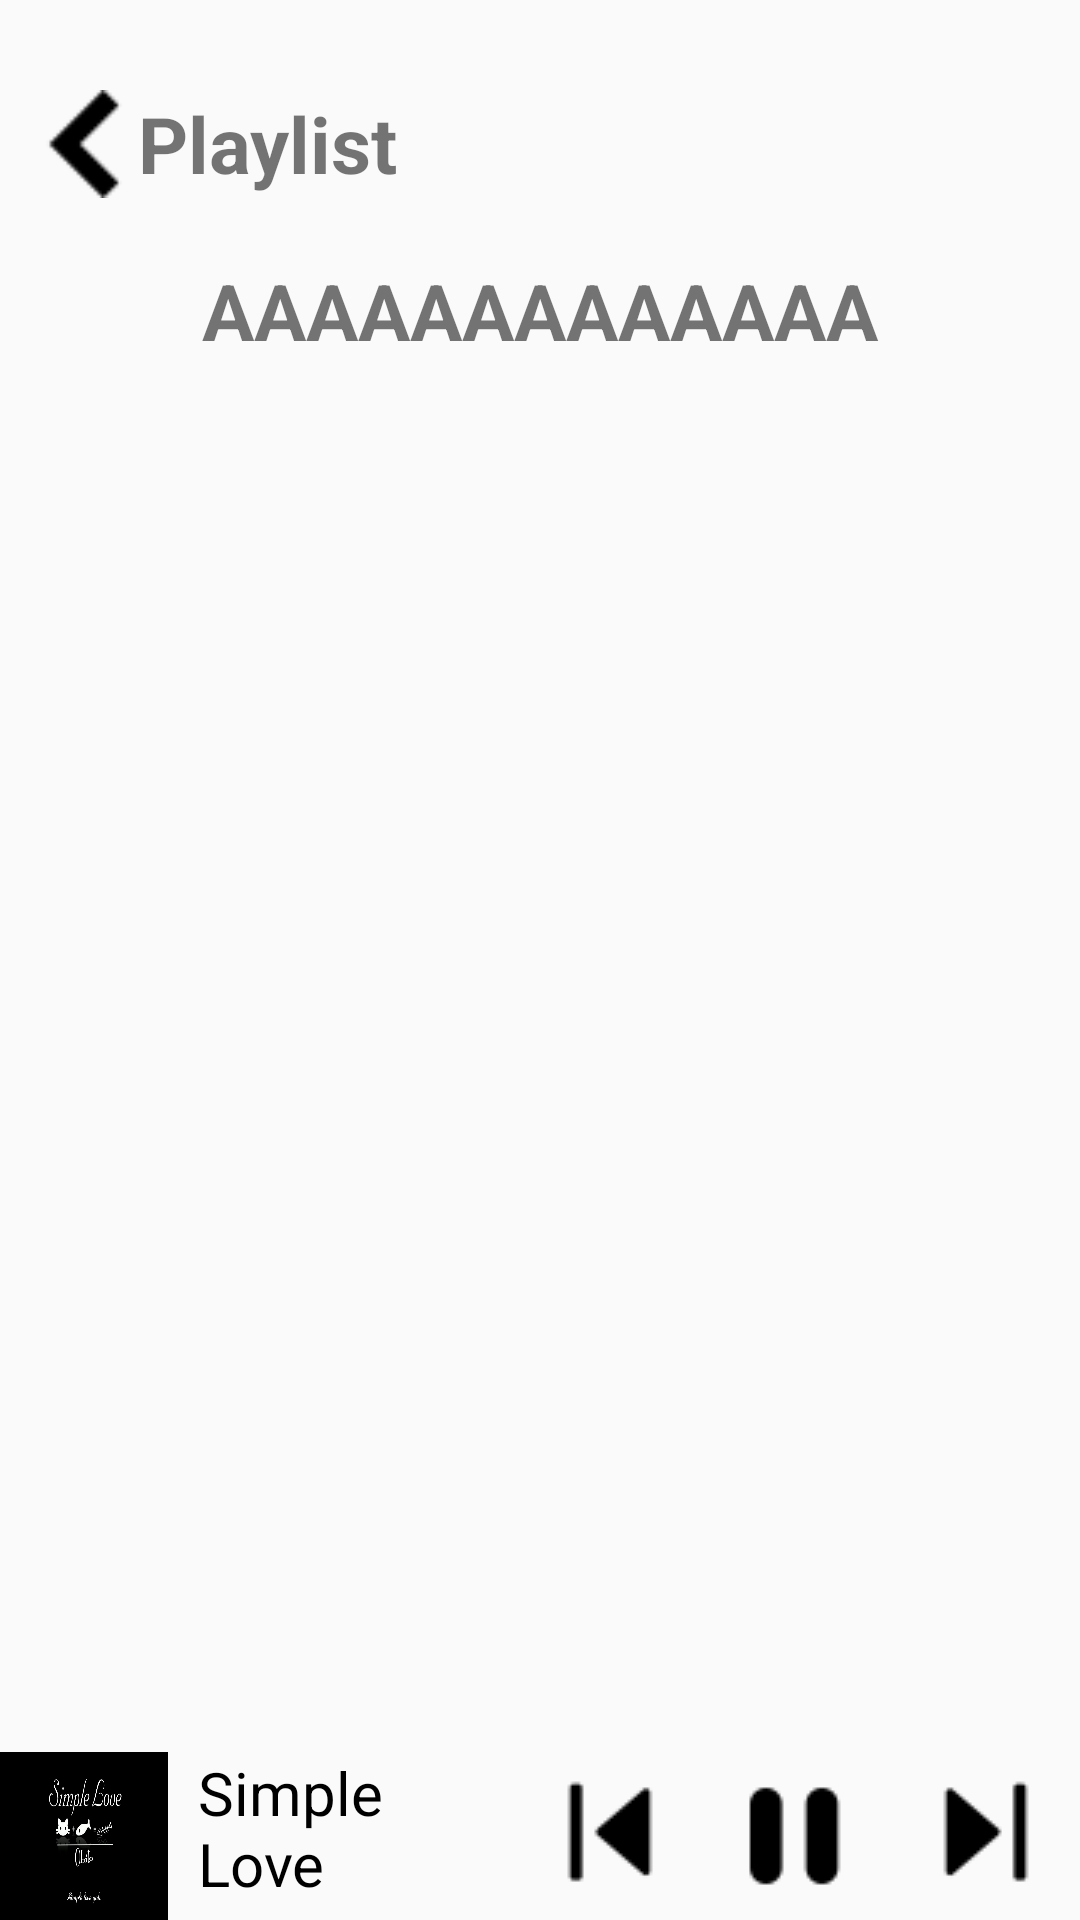

Locate icon controls on the screen. Image size 1080×1920, boxes as box(x1, y1, x2, y2).
back: box(49, 90, 119, 198), box(567, 1781, 653, 1882)
next: box(943, 1781, 1029, 1882)
pause: box(749, 1787, 841, 1885)
